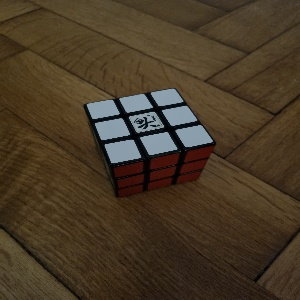cube: (83, 87, 217, 199)
